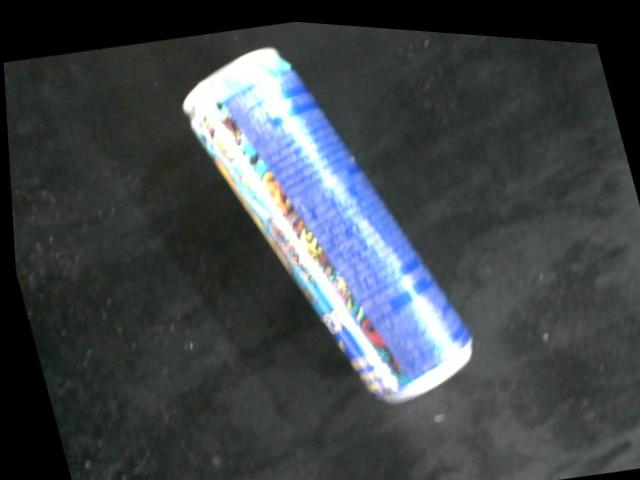can: (179, 41, 472, 401)
